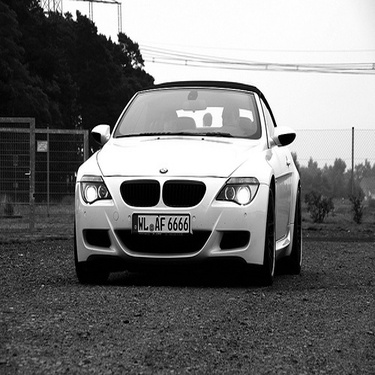car: (57, 75, 310, 290)
